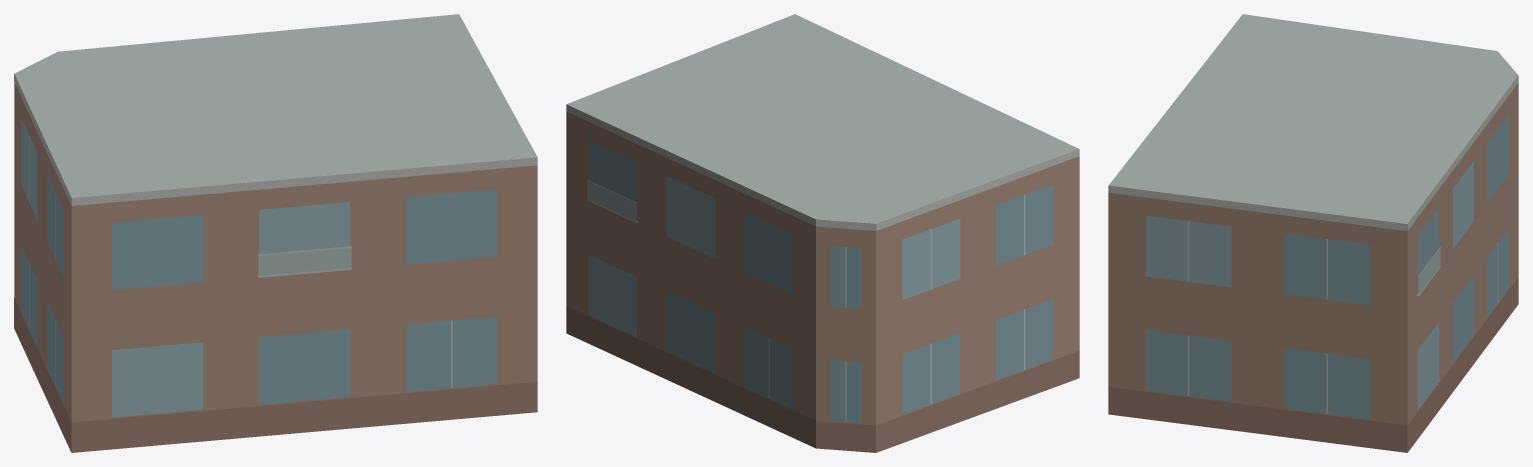
File: survey-upis-32769472.glb
The picture shows the model from 3 angles, left to right: view 1: azimuth 30°, elevation 25°; view 2: azimuth 150°, elevation 25°; view 3: azimuth 270°, elevation 25°; orthographic projection. The views are drawn at different scales.
Parts seen in each view (by area): view 1: survey-upis-32769472.tmp; view 2: survey-upis-32769472.tmp; view 3: survey-upis-32769472.tmp.
Part boxes in pixels (x1,y1,x2,y2): survey-upis-32769472.tmp: (14, 14, 537, 452); survey-upis-32769472.tmp: (566, 14, 1079, 452); survey-upis-32769472.tmp: (1108, 14, 1518, 452).
Bounding box in the file's own units: 15.37 × 7.8 × 12.68.
